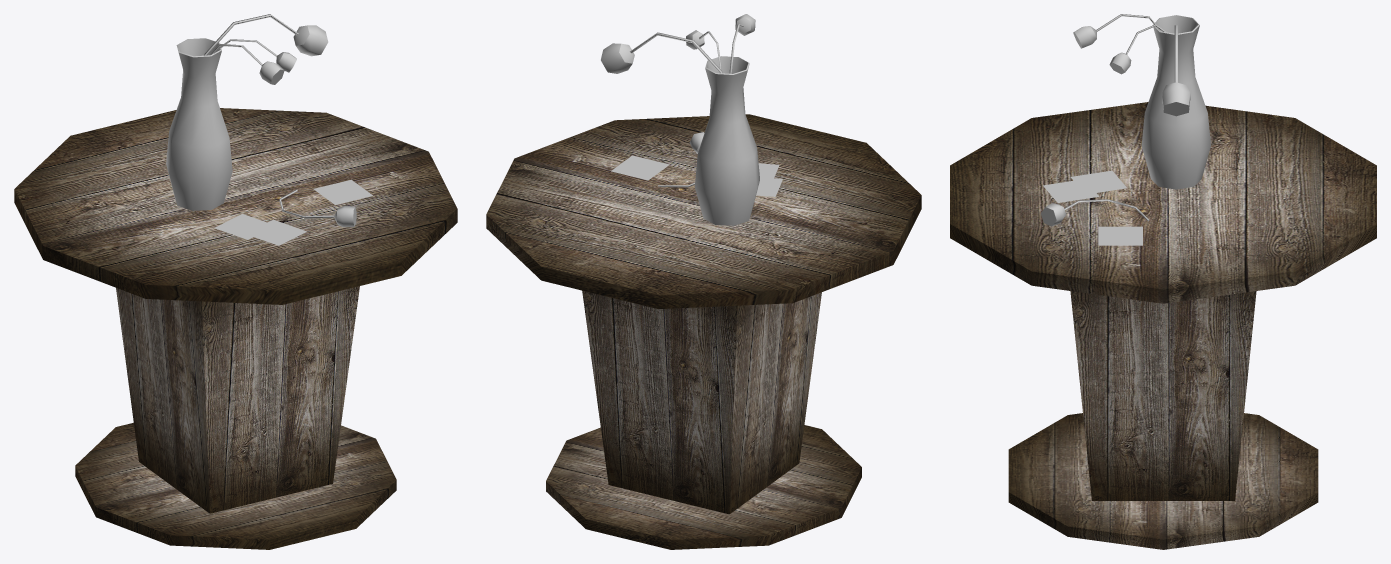
File: MesaFlorero.FBX
3 views of the same model, side by side, from view 1: azimuth 30°, elevation 25°; view 2: azimuth 150°, elevation 25°; view 3: azimuth 270°, elevation 25° (orthographic). The views are drawn at different scales.
Visible parts, largest first — view 1: Mesachica, florero; view 2: Mesachica, florero; view 3: Mesachica, florero.
Boxes of the visible parts, x1,y1,x2,y2 form: Mesachica: (14, 108, 457, 549); florero: (166, 14, 372, 245); Mesachica: (486, 114, 921, 549); florero: (601, 14, 782, 225); Mesachica: (950, 102, 1376, 549); florero: (1041, 14, 1210, 245).
Bounding box in the file's own units: 19.65 × 22.2 × 18.69.
